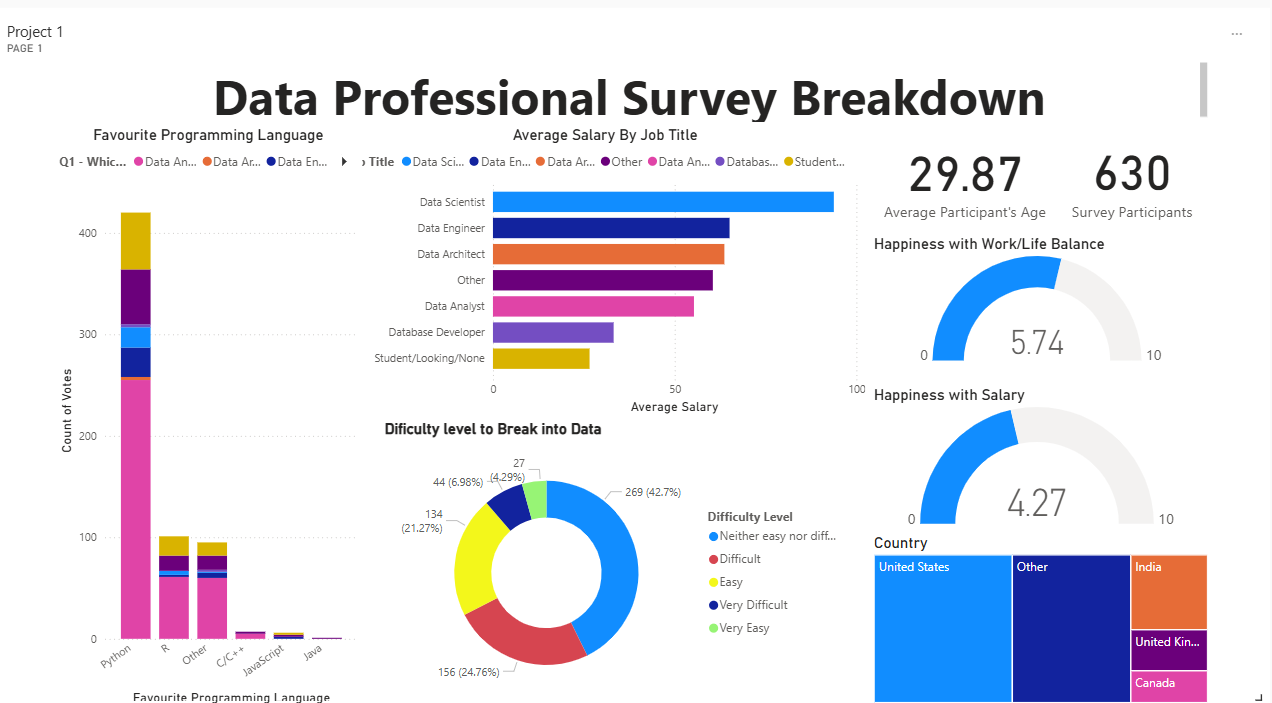

The page's visual inventory and layout, read from the dashboard file:
{"tool":"powerbi","page":{"name":"Page 1","canvas":[1280,720],"ordinal":0},"visuals":[{"type":"textbox","box":[0,0,1280,75],"z":0},{"type":"card","fields":{"Values":["Count(Data Professional Survey.Unique ID)"]},"box":[1103.3,75,176.7,111.7],"z":1000},{"type":"card","fields":{"Values":["Avg(Data Professional Survey.Q10 - Current Age)"]},"box":[910,76.7,193.3,110],"z":2000},{"type":"barChart","title":"Average Salary By Job Title","fields":{"Category":["Data Professional Survey.Q1 - Which Title Best Fits your Current Role?.1"],"Y":["Avg(Data Professional Survey.Average Salary)"],"Series":["Data Professional Survey.Q1 - Which Title Best Fits your Current Role?.1"]},"box":[316.7,75,585,323.3],"z":3000},{"type":"columnChart","title":"Favourite Programming Language","fields":{"Category":["Data Professional Survey.Q5 - Favorite Programming Language.1"],"Y":["CountNonNull(Data Professional Survey.Unique ID)"],"Series":["Data Professional Survey.Q1 - Which Title Best Fits your Current Role?.1"]},"box":[0,75.7,340,645.7],"z":4000},{"type":"treemap","title":"Country","fields":{"Group":["Data Professional Survey.Q11 - Which Country do you live in?.1"],"Values":["CountNonNull(Data Professional Survey.Q11 - Which Country do you live in?.1)"]},"box":[901,525.4,378.6,193.8],"z":5000},{"type":"gauge","title":"Happiness with Work/Life Balance","fields":{"Y":["Avg(Data Professional Survey.Q6 - How Happy are you in your Current Position with the following? (Work/Life Balance))"],"MinValue":["Min(Data Professional Survey.Q6 - How Happy are you in your Current Position with the following? (Work/Life Balance))1"],"MaxValue":["Max(Data Professional Survey.Q6 - How Happy are you in your Current Position with the following? (Work/Life Balance))2"]},"box":[901,195.3,378.6,149.9],"z":6000},{"type":"gauge","title":"Happiness with Salary","fields":{"Y":["Avg(Data Professional Survey.Q6 - How Happy are you in your Current Position with the following? (Salary))"],"MinValue":["Min(Data Professional Survey.Q6 - How Happy are you in your Current Position with the following? (Salary))"],"MaxValue":["Max(Data Professional Survey.Q6 - How Happy are you in your Current Position with the following? (Salary))"]},"box":[901,361.9,378.6,163.5],"z":7000},{"type":"donutChart","title":"Dificulty level to Break into Data","fields":{"Category":["Data Professional Survey.Q7 - How difficult was it for you to break into Data?"],"Y":["CountNonNull(Data Professional Survey.Q7 - How difficult was it for you to break into Data?)"]},"box":[360,400,520,320],"z":8000}]}

Visuals, with their boxes on the page's 1280x720 design canvas (x1, y1, x2, y2). These are canvas units, not pixel positions in the 1272x703 screenshot, which may show the page scaled, cropped or inside an application window:
textbox: (0,0,1280,75)
card - Count(Data Professional Survey.Unique ID): (1103,75,1280,187)
card - Avg(Data Professional Survey.Q10 - Current Age): (910,77,1103,187)
"Average Salary By Job Title" barChart: (317,75,902,398)
"Favourite Programming Language" columnChart: (0,76,340,721)
"Country" treemap: (901,525,1280,719)
"Happiness with Work/Life Balance" gauge: (901,195,1280,345)
"Happiness with Salary" gauge: (901,362,1280,525)
"Dificulty level to Break into Data" donutChart: (360,400,880,720)
